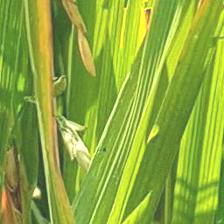2 BacterialBlight: (33, 4, 75, 213)
